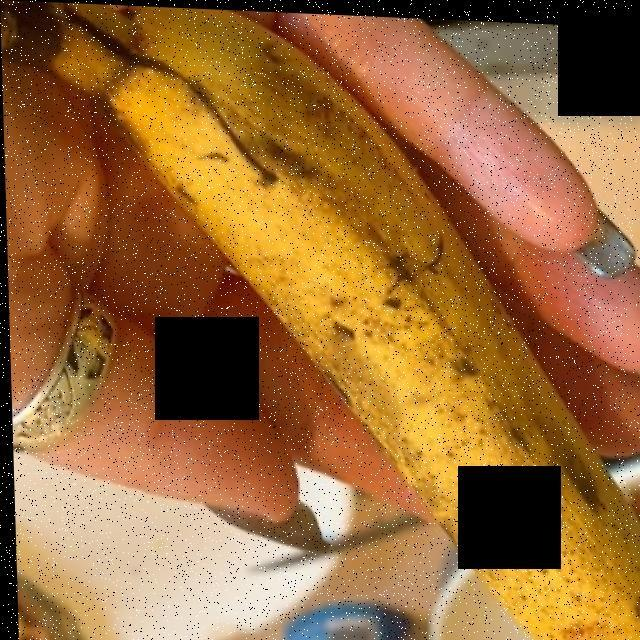banana: (62, 23, 631, 572)
